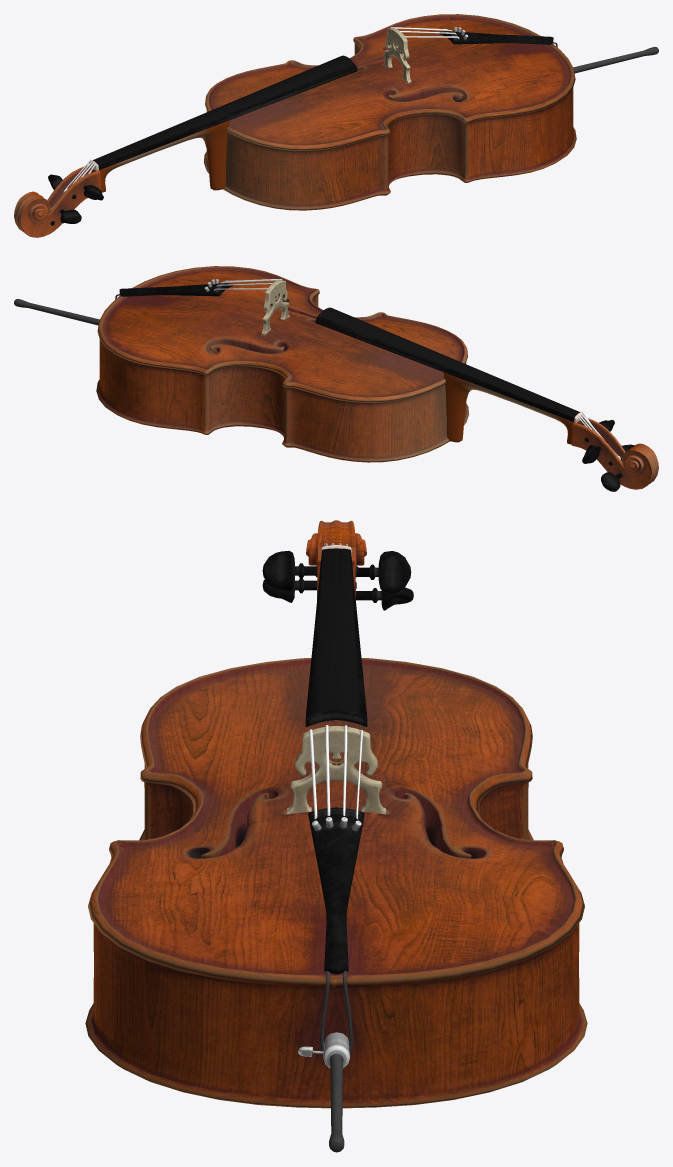
The model's file is cello.glb.
3 renders of one model, top to bottom at view 1: azimuth 30°, elevation 25°; view 2: azimuth 150°, elevation 25°; view 3: azimuth 270°, elevation 25°, orthographic. The views are drawn at different scales.
Visible parts, largest first — view 1: body, fittings, fingerboard, bridge, stringEnds; view 2: body, fittings, fingerboard, bridge, stringEnds; view 3: body, fittings, fingerboard, bridge, stringEnds.
Part boxes in pixels (left/top/right/bottom): body: left=204, top=14, right=576, bottom=210; fittings: left=14, top=27, right=658, bottom=237; fingerboard: left=93, top=55, right=357, bottom=169; bridge: left=383, top=28, right=411, bottom=82; stringEnds: left=50, top=27, right=459, bottom=209; body: left=96, top=266, right=469, bottom=462; fittings: left=14, top=279, right=658, bottom=491; fingerboard: left=315, top=307, right=580, bottom=421; bridge: left=261, top=280, right=289, bottom=334; stringEnds: left=214, top=279, right=618, bottom=457; body: left=85, top=657, right=587, bottom=1108; fittings: left=262, top=520, right=413, bottom=1152; fingerboard: left=305, top=548, right=367, bottom=726; bridge: left=286, top=726, right=386, bottom=814; stringEnds: left=309, top=543, right=362, bottom=819.
Bounding box in the file's own units: 50.64 × 9.38 × 17.19.
Materials: 2 (2 with a texture image).
